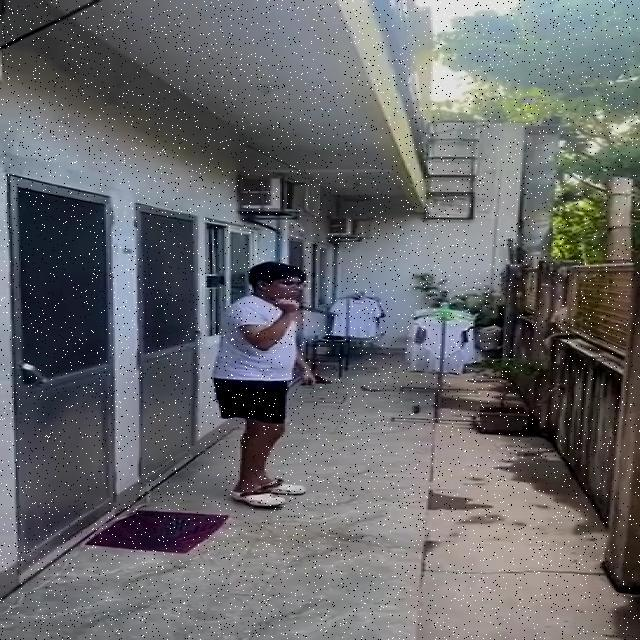knife: (298, 304, 338, 320)
non-violence: (214, 261, 340, 510)
